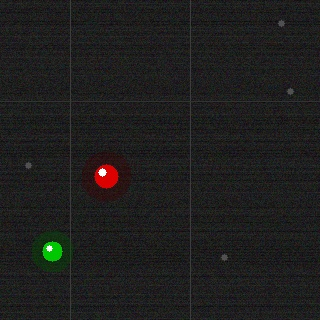green_normal: (40, 239, 64, 263)
red_fault: (92, 162, 120, 190)
